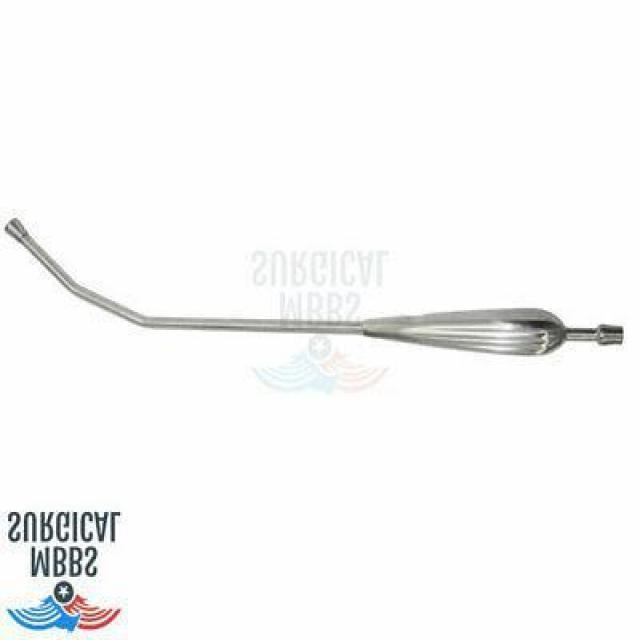Yankauer: (1, 210, 628, 362)
